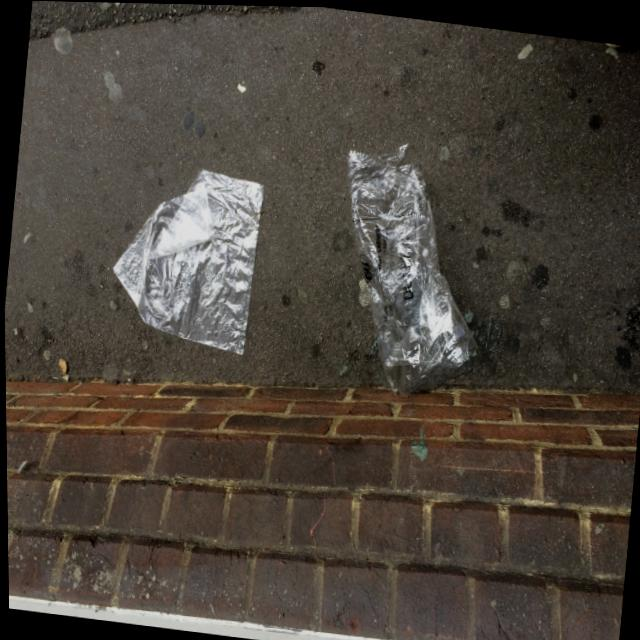Plastic: (315, 126, 504, 413), (96, 148, 276, 366)
